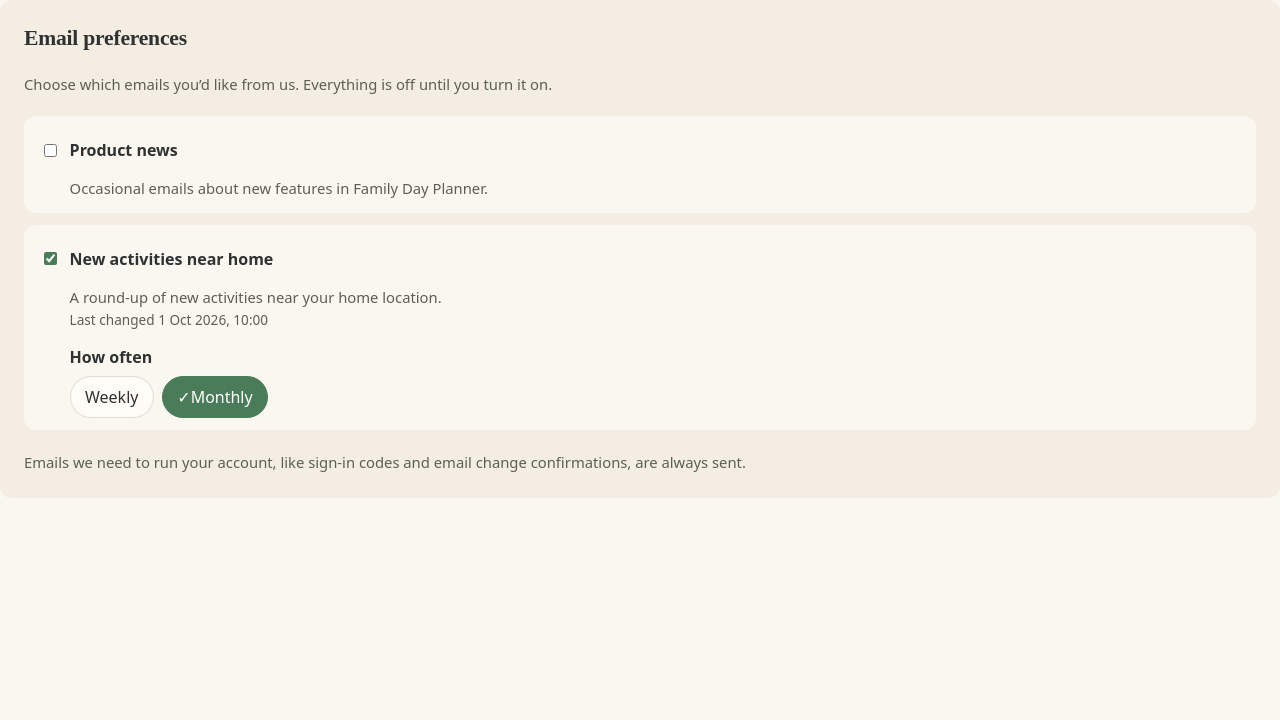
Test case: ContactSection › shows when each choice last changed, updating as it changes
Expected: the text "Last changed 1 Oct 2026, 10:00" is shown, [70,310,268,329]
Click the checkbox labelled "New activities near home": x=50, y=259 [44,252,57,265]
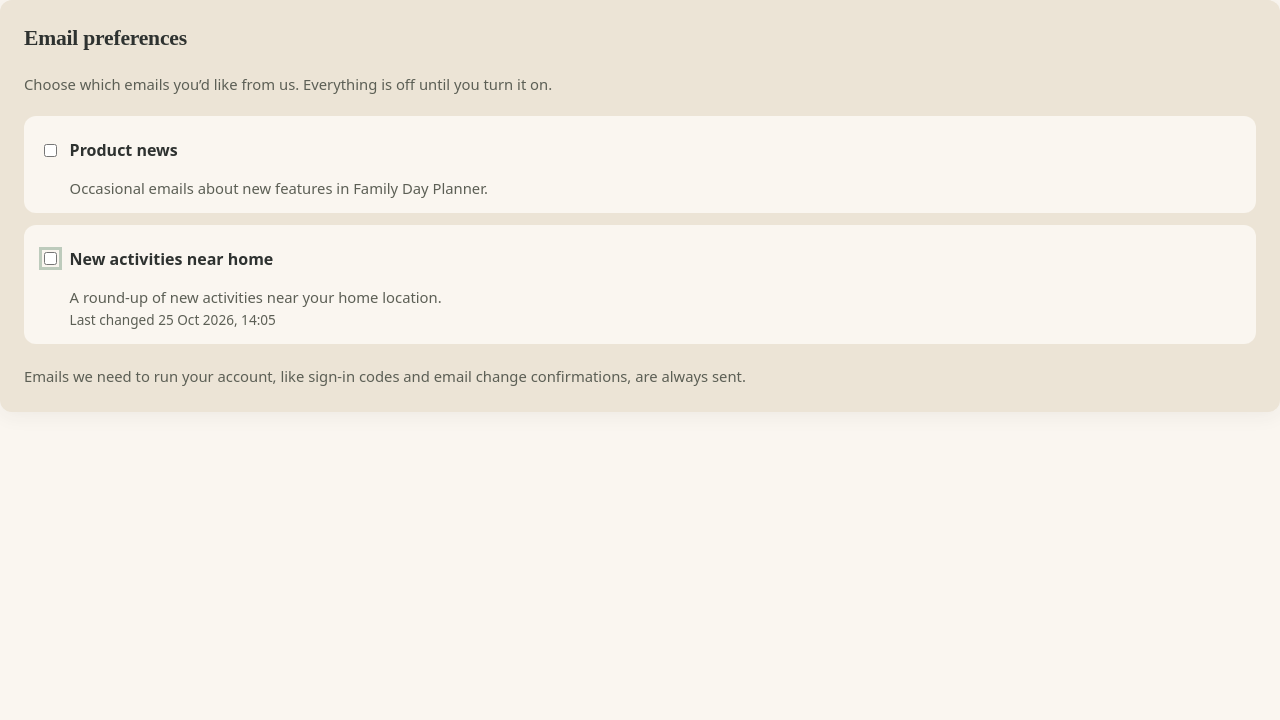
Now the checkbox labelled "New activities near home" is not checked, box [44,252,57,265]
Now the text "Last changed 25 Oct 2026, 14:05" is shown, box [70,310,276,329]
